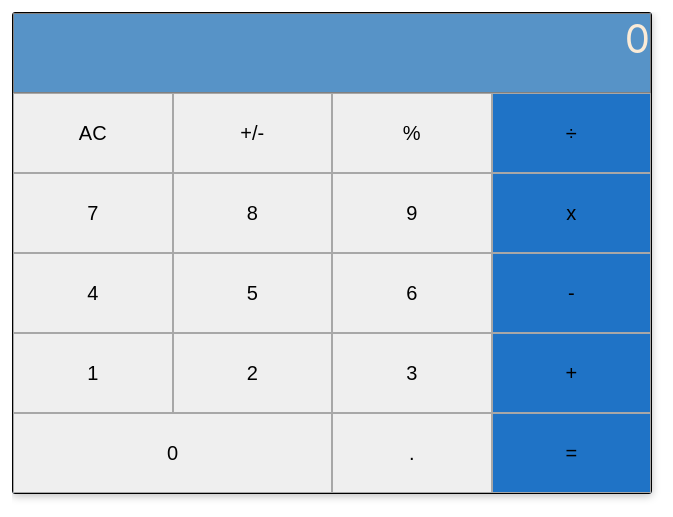
Test: Testing Calculator component with snapshot › Testing to see if the Calculator component can accurately multiply two or more numbers together.
The width and height of the screenshot is (673, 517).
Click the button "1" at (93, 373), box x1=13 y1=333 x2=172 y2=413
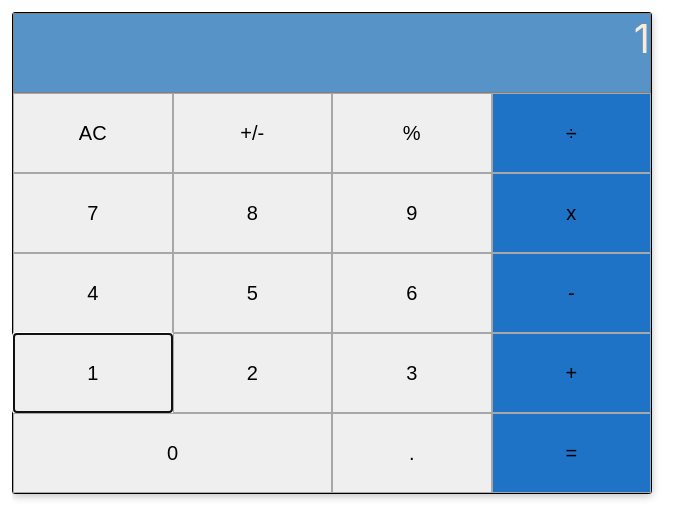
Click the button "1" at (93, 373), box x1=13 y1=333 x2=172 y2=413
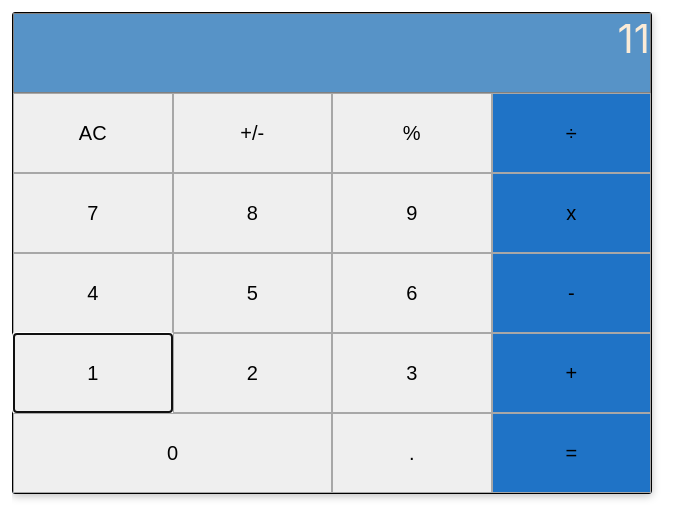
Click the button "x" at (571, 213), box x1=492 y1=173 x2=651 y2=253
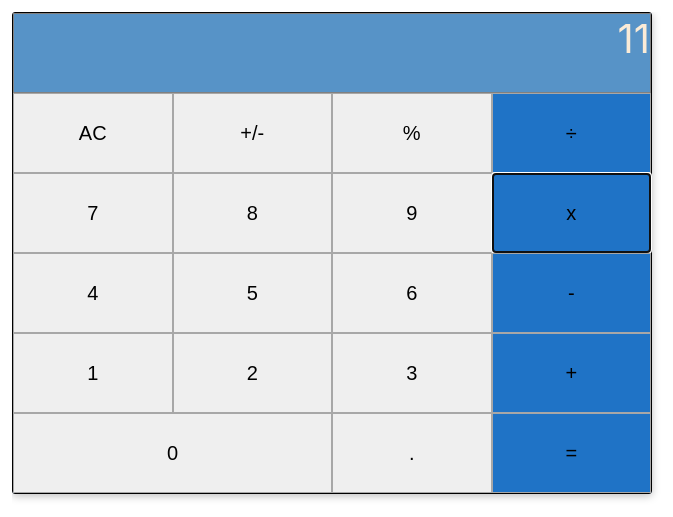
Click the button "2" at (252, 373), box x1=172 y1=333 x2=332 y2=413
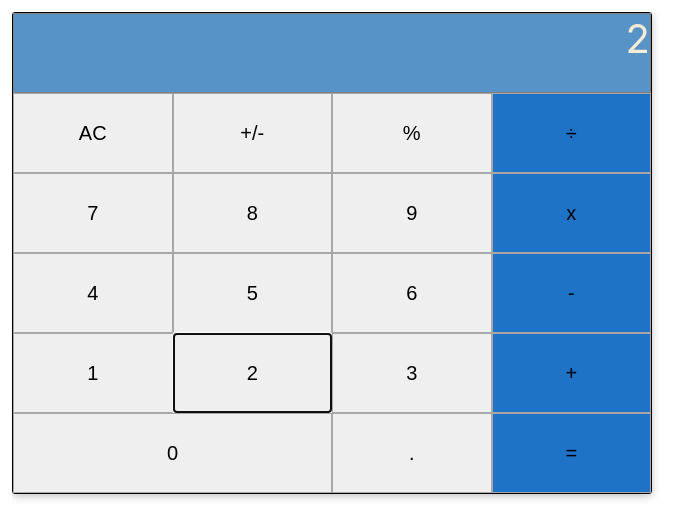
Click the button "=" at (571, 453), box x1=492 y1=413 x2=651 y2=493
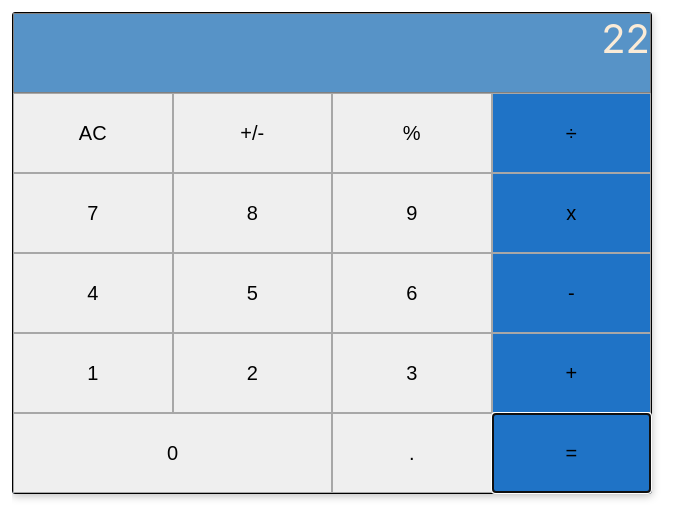
Expected: the text with test id "total_value" reads "22", x1=601 y1=14 x2=650 y2=63
